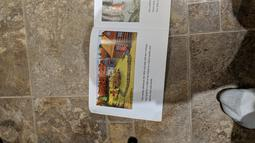text block: (139, 41, 156, 105), (146, 1, 163, 16)
